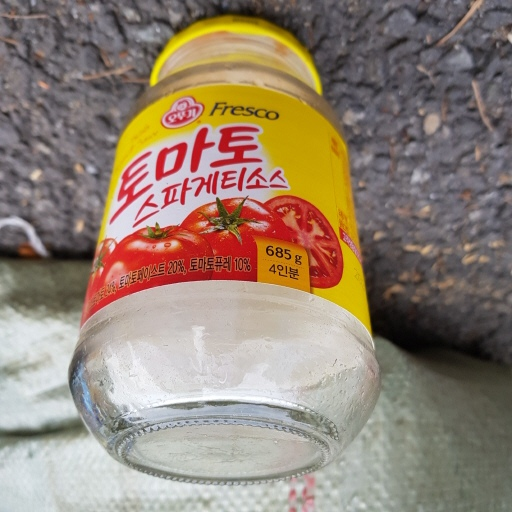Glass_5: (67, 10, 383, 487)
